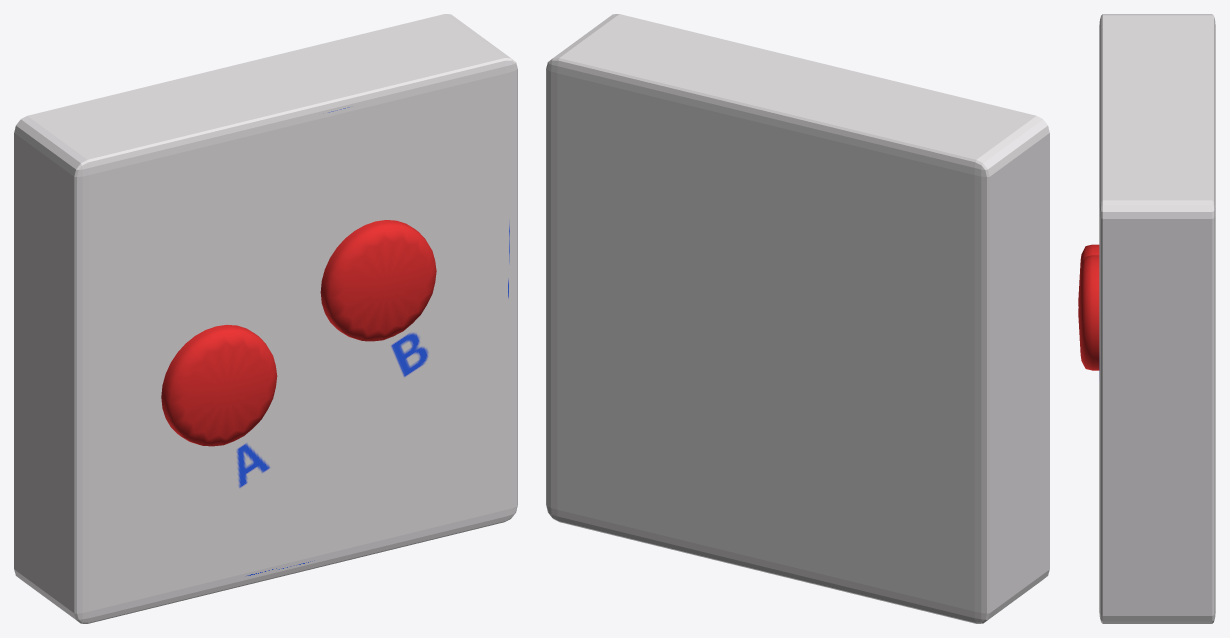
File: gameboyButtons.glb
3 views of the same model, side by side, from view 1: azimuth 30°, elevation 25°; view 2: azimuth 150°, elevation 25°; view 3: azimuth 270°, elevation 25° (orthographic). The views are drawn at different scales.
Parts seen in each view (by area): view 1: Cube, Cylinder.001, Cylinder; view 2: Cube; view 3: Cube, Cylinder.001, Cylinder.
Boxes of the visible parts, x1=… form: Cube: x1=14, y1=14, x2=517, y2=623; Cylinder.001: x1=320, y1=220, x2=436, y2=341; Cylinder: x1=161, y1=324, x2=277, y2=446; Cube: x1=546, y1=14, x2=1049, y2=623; Cube: x1=1099, y1=14, x2=1215, y2=623; Cylinder.001: x1=1078, y1=255, x2=1099, y2=370; Cylinder: x1=1078, y1=244, x2=1099, y2=306.
Bounding box in the file's own units: 2 × 2 × 0.5903.
Materials: 2 (1 with a texture image).
